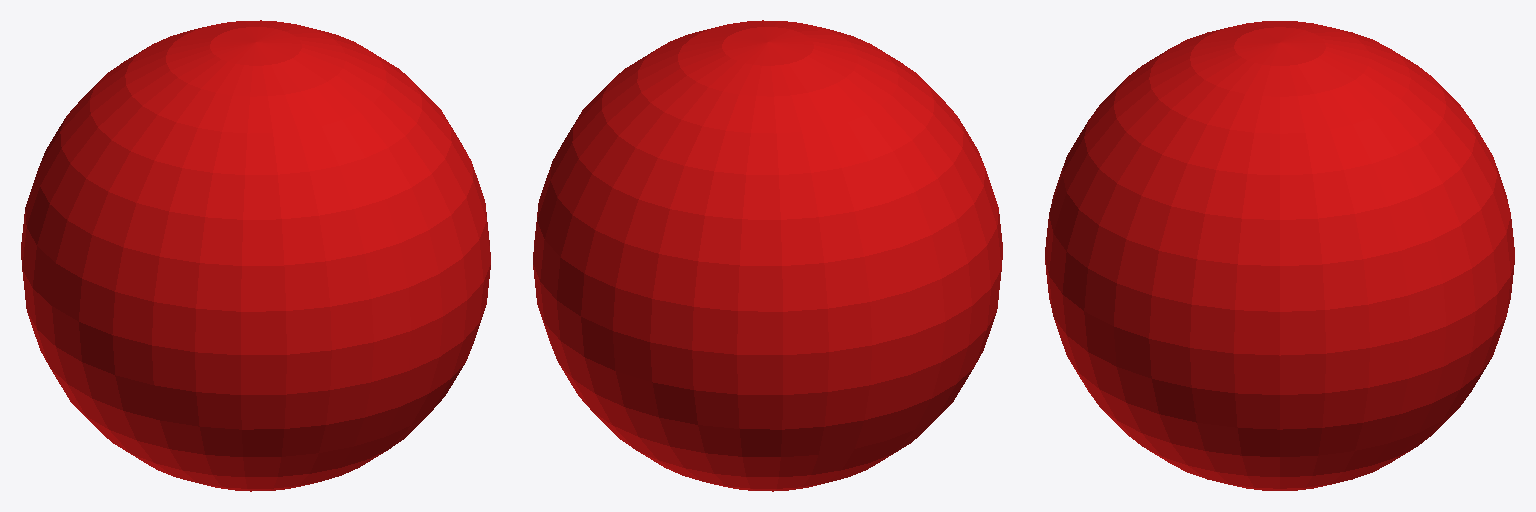
robot.urdf — red_sphere:
<?xml version="1.0"?>
<robot name="red_sphere">
  <link name="base_link">
    <contact>
      <lateral_friction value="0.9"/>
      <rolling_friction value="0.08"/>
      <spinning_friction value="0.06"/>
      <restitution value="0.0"/>
    </contact>
    <inertial>
      <origin rpy="0 0 0" xyz="0 0 0"/>
      <mass value="0.5"/>
      <inertia ixx="0.001" ixy="0" ixz="0" iyy="0.001" iyz="0" izz="0.001"/>
    </inertial>
    <visual>
      <origin rpy="0 0 0" xyz="0 0 0"/>
      <geometry>
        <sphere radius="0.06"/>
      </geometry>
      <material name="red">
        <color rgba="0.850 0.120 0.120 1.000"/>
      </material>
    </visual>
    <collision>
      <origin rpy="0 0 0" xyz="0 0 0"/>
      <geometry>
        <sphere radius="0.06"/>
      </geometry>
    </collision>
  </link>
</robot>

--- What the picture shows (computed from the rendered views, not written in the file) ---
The picture shows the robot from 3 angles, left to right: view 1: azimuth 30°, elevation 25°; view 2: azimuth 150°, elevation 25°; view 3: azimuth 270°, elevation 25°; orthographic projection.
Model red_sphere with 1 links and 0 joints (none), rooted at base_link, posed all joints at 0.
Visible links, largest first — view 1: base_link; view 2: base_link; view 3: base_link.
Boxes of the visible links, x1,y1,x2,y2 form: base_link: [21, 20, 490, 491]; base_link: [533, 20, 1002, 491]; base_link: [1045, 21, 1514, 490].
Size in the robot's own frame: 0.12 by 0.12 by 0.12 metres.
Geometry: primitives only (box / cylinder / sphere), no mesh files.
